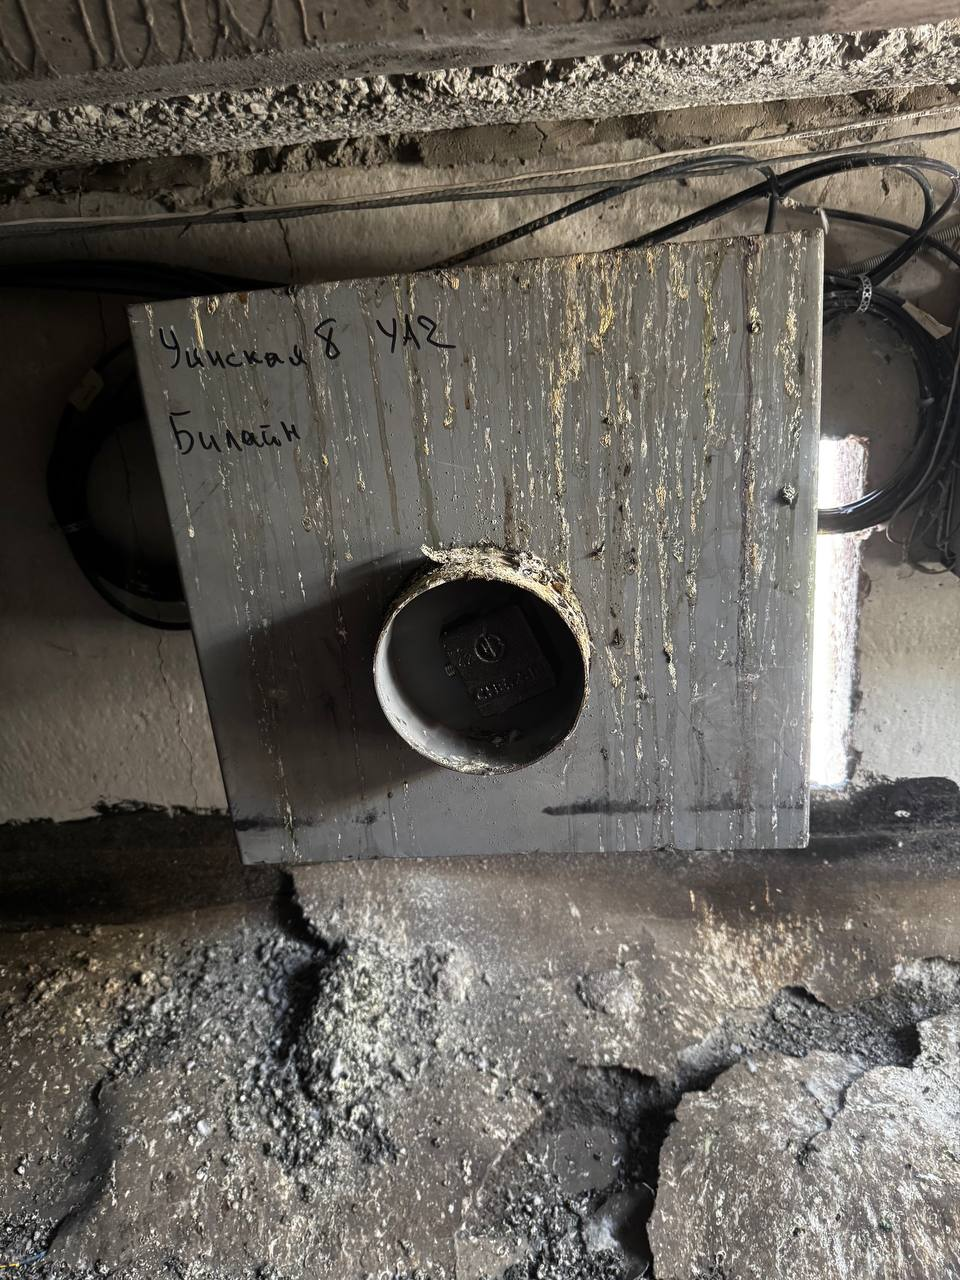shta-9: (113, 210, 845, 882)
